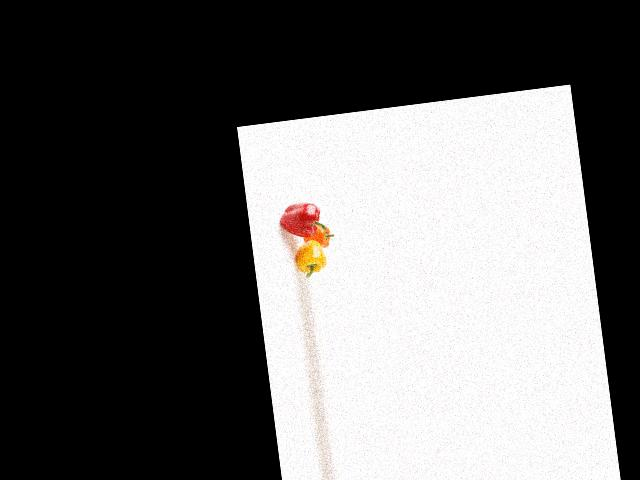bell_pepper: (273, 198, 331, 242)
